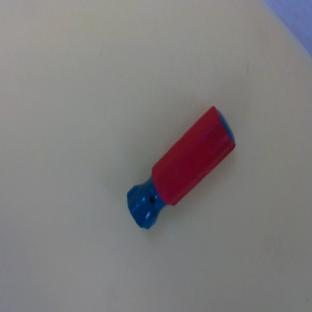part_2_good: (116, 105, 245, 235)
